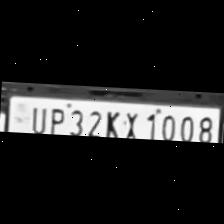0: (157, 113, 176, 140), (176, 114, 195, 140)
1: (140, 111, 158, 139)
2: (84, 108, 103, 136)
3: (65, 106, 84, 134)
8: (194, 114, 213, 142)
K: (102, 107, 122, 136)
P: (44, 105, 64, 133)
U: (26, 104, 45, 132)
X: (120, 110, 140, 138)
